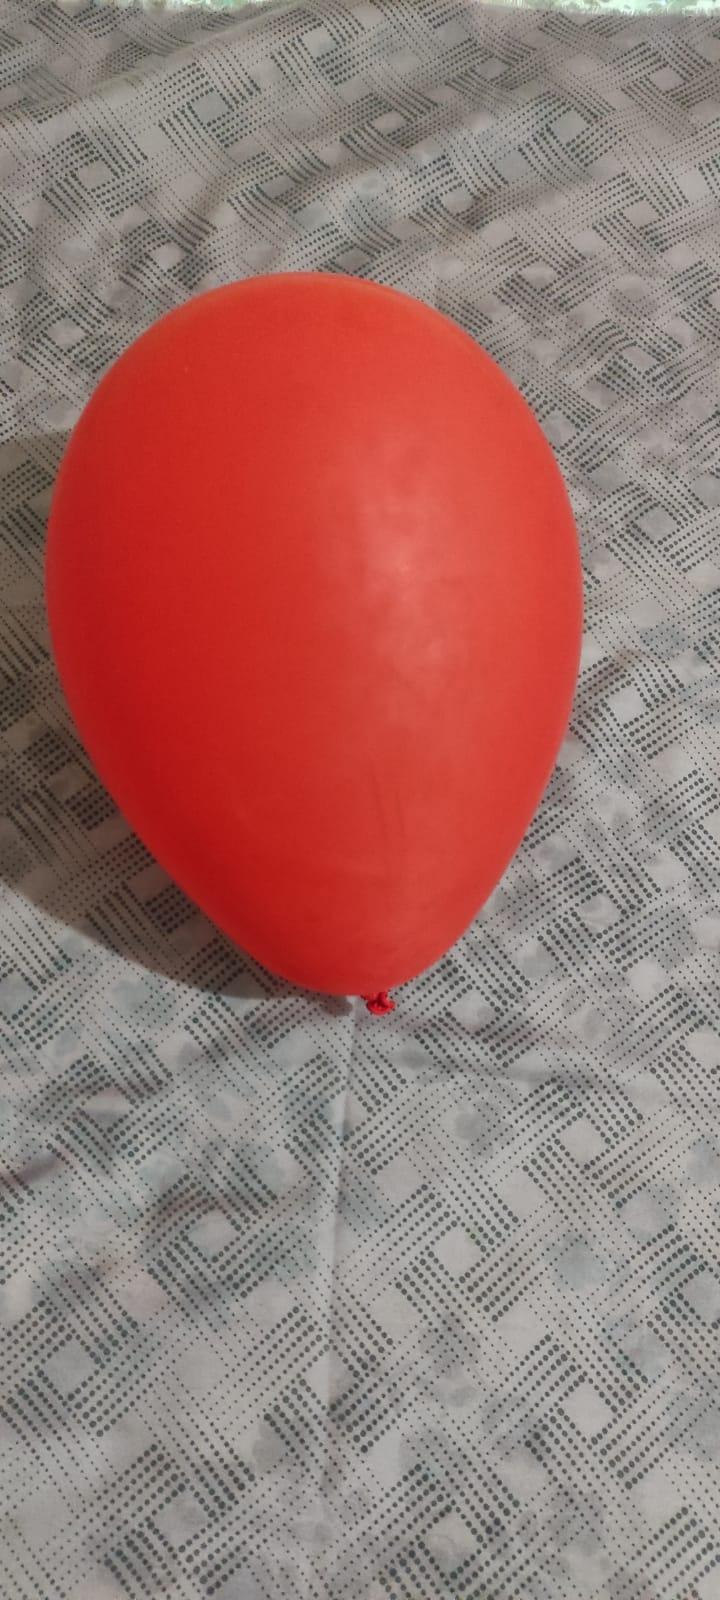red: (34, 264, 597, 1026)
